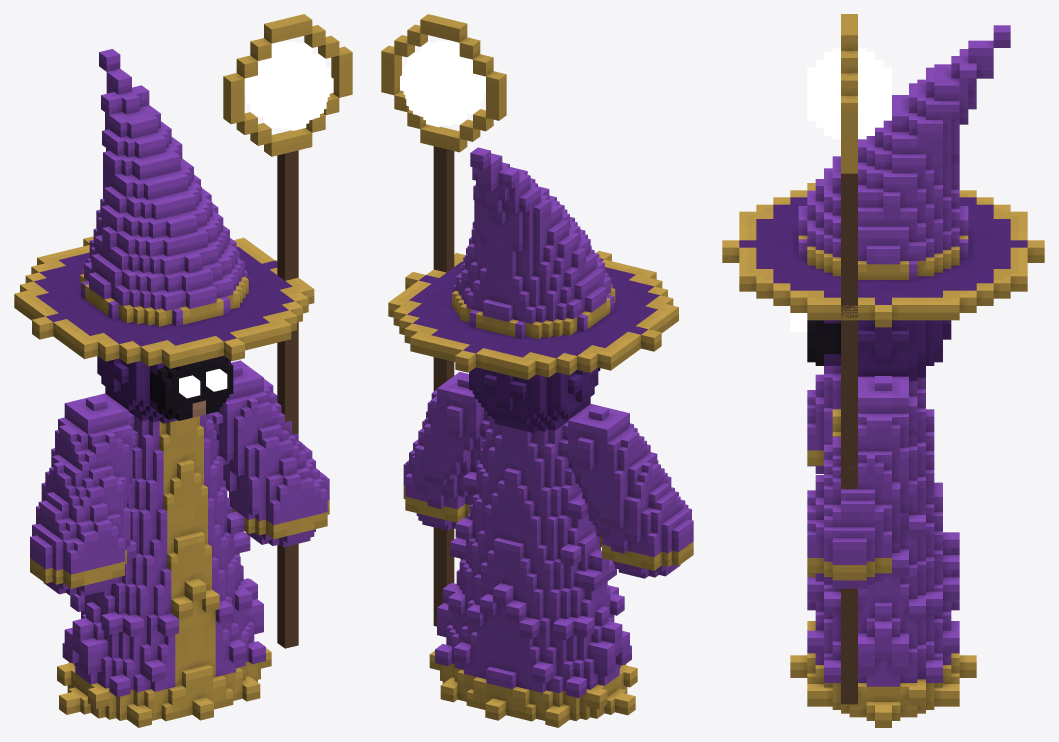
Rendered from u_oracle.glb.
The picture shows the model from 3 angles, left to right: view 1: azimuth 30°, elevation 25°; view 2: azimuth 150°, elevation 25°; view 3: azimuth 270°, elevation 25°; orthographic projection. The views are drawn at different scales.
Parts seen in each view (by area): view 1: oracle_body, oracle_weapon, oracle_weaponglow, oracle_glow; view 2: oracle_body, oracle_weapon, oracle_weaponglow; view 3: oracle_body, oracle_weapon, oracle_weaponglow.
Part boxes in pixels (box(x1,y1,x2,y2)): oracle_body: box(14, 49, 329, 727); oracle_weapon: box(223, 14, 352, 648); oracle_weaponglow: box(244, 41, 333, 130); oracle_glow: box(179, 369, 227, 398); oracle_body: box(388, 147, 693, 727); oracle_weapon: box(381, 14, 506, 626); oracle_weaponglow: box(400, 40, 485, 127); oracle_body: box(722, 25, 1044, 727); oracle_weapon: box(841, 14, 857, 704); oracle_weaponglow: box(807, 48, 891, 139).
Bounding box in the file's own units: 1.15 × 2.3 × 0.95.
